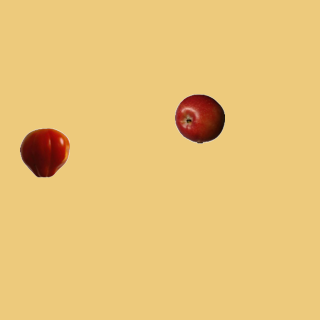Apple Braeburn: (174, 93, 224, 143)
Tomato 1: (19, 127, 69, 177)
